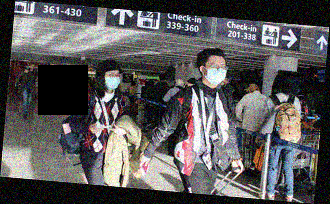with_mask: (205, 62, 227, 86), (104, 71, 121, 91)
without_mask: (30, 65, 36, 70)
